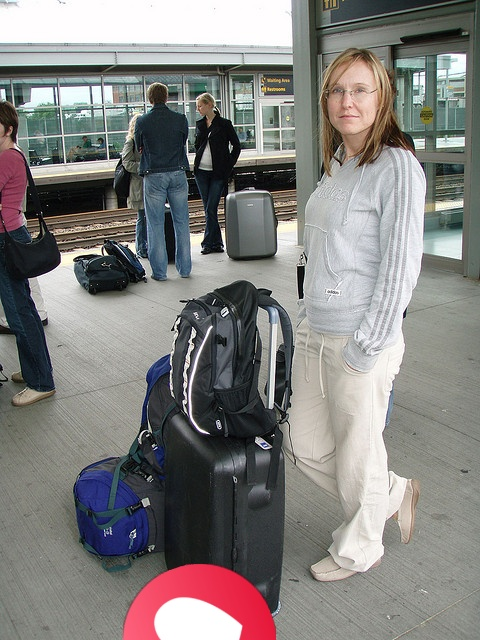love: (123, 564, 276, 640)
